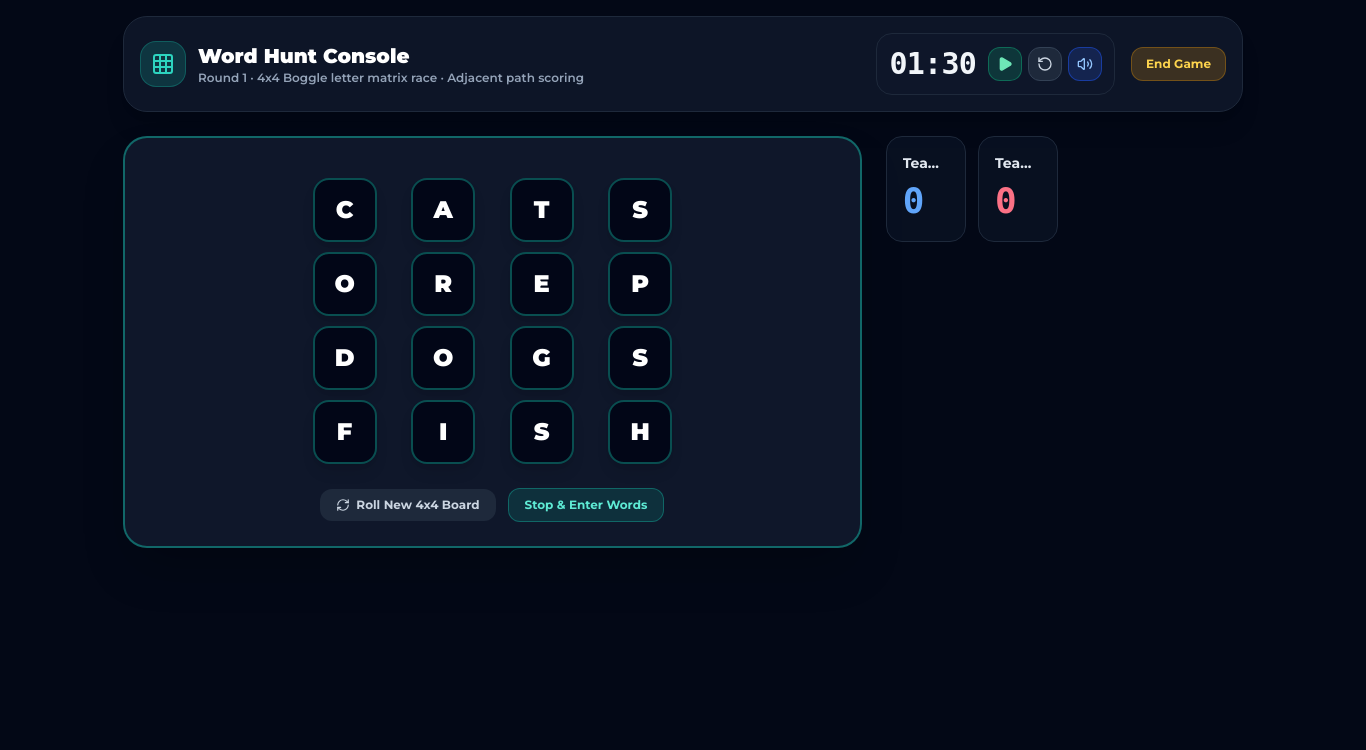
Test: Audit Regression Suite: Content Generator & All 15 Hub/Battle Games › 10 Team Battle Games Gameplay & Sync Fixes › WordHuntHostView deduplicates per-team words and locks round scoring after applied
The width and height of the screenshot is (1366, 750).
Click the button "Stop & Enter Words" at [586, 505], box [508,488,664,522]
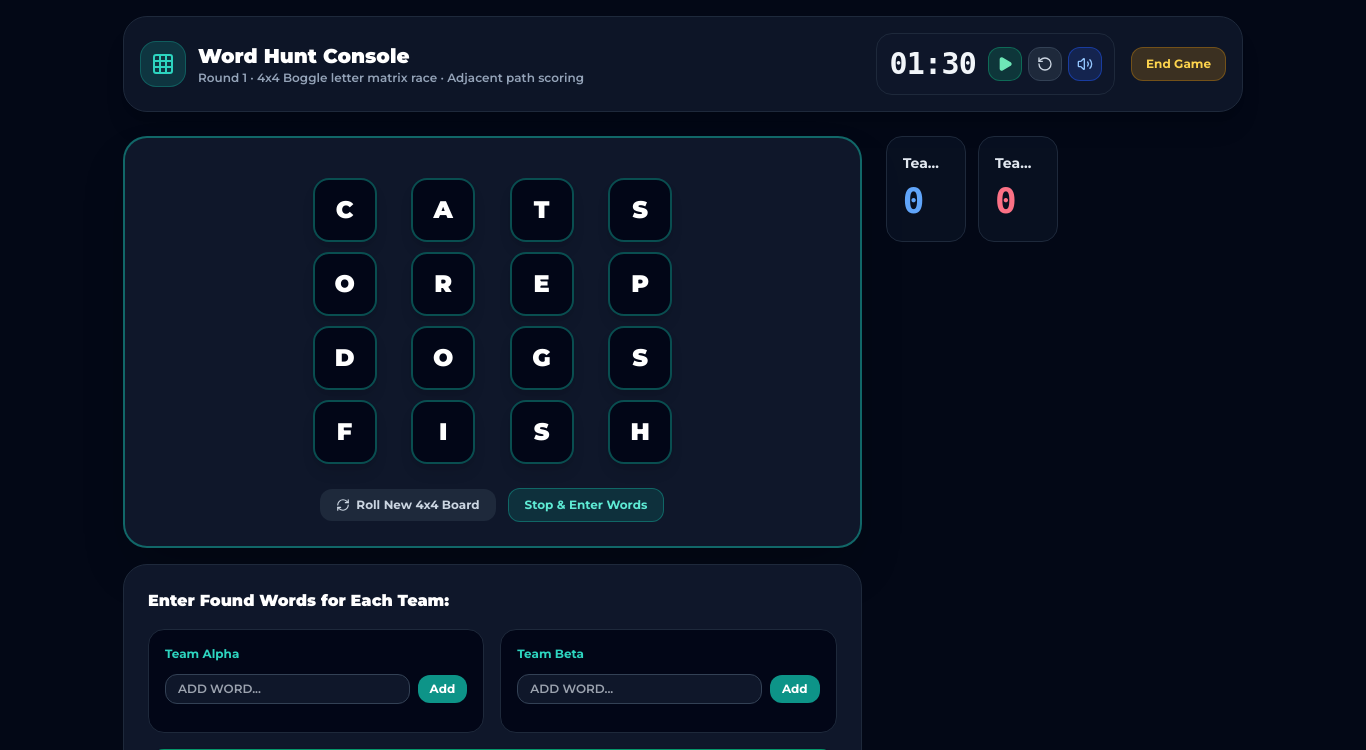
Type "CAT" into the 1st field with placeholder "Add word..." at [287, 689], box [165,674,410,704]
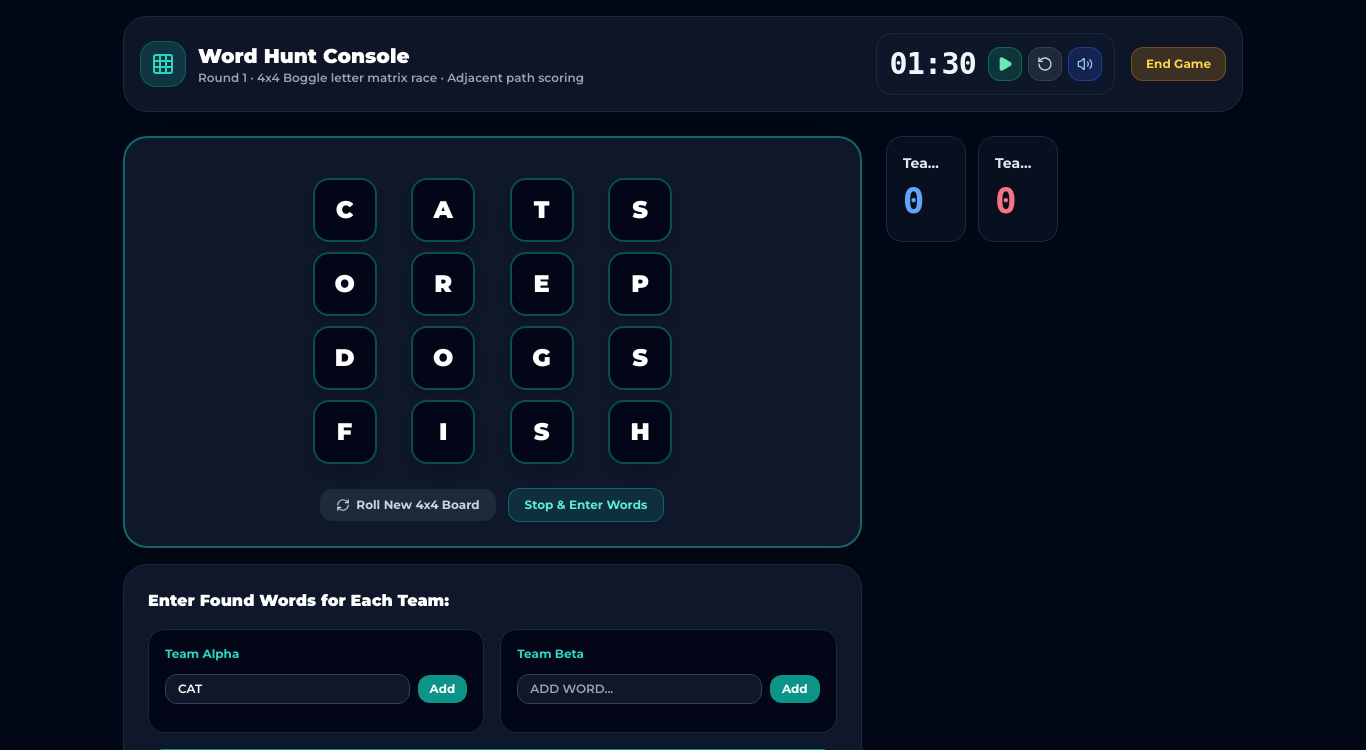
Click the 1st button "Add" at [442, 689], box [418,675,467,703]
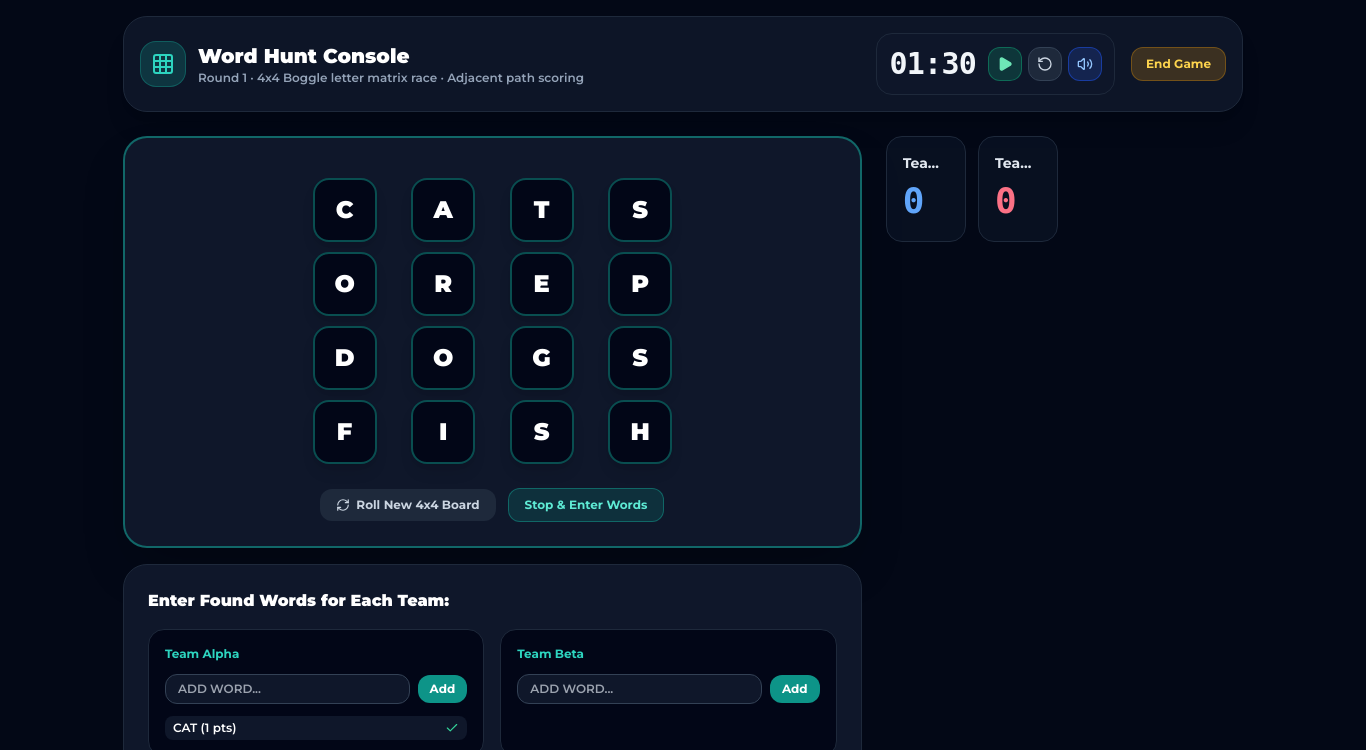
Type "CAT" into the 1st field with placeholder "Add word..." at [287, 689], box [165,674,410,704]
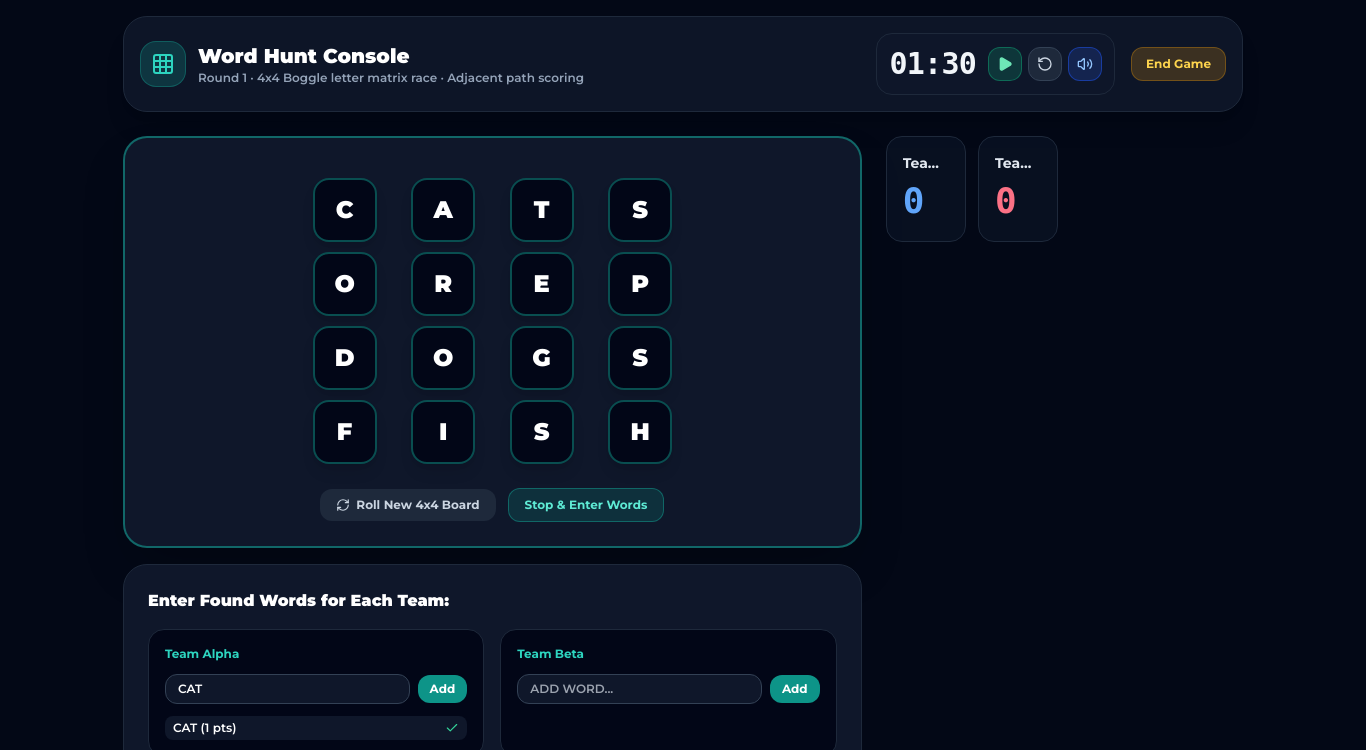
Click the 1st button "Add" at [442, 689], box [418,675,467,703]
(page scrolled)
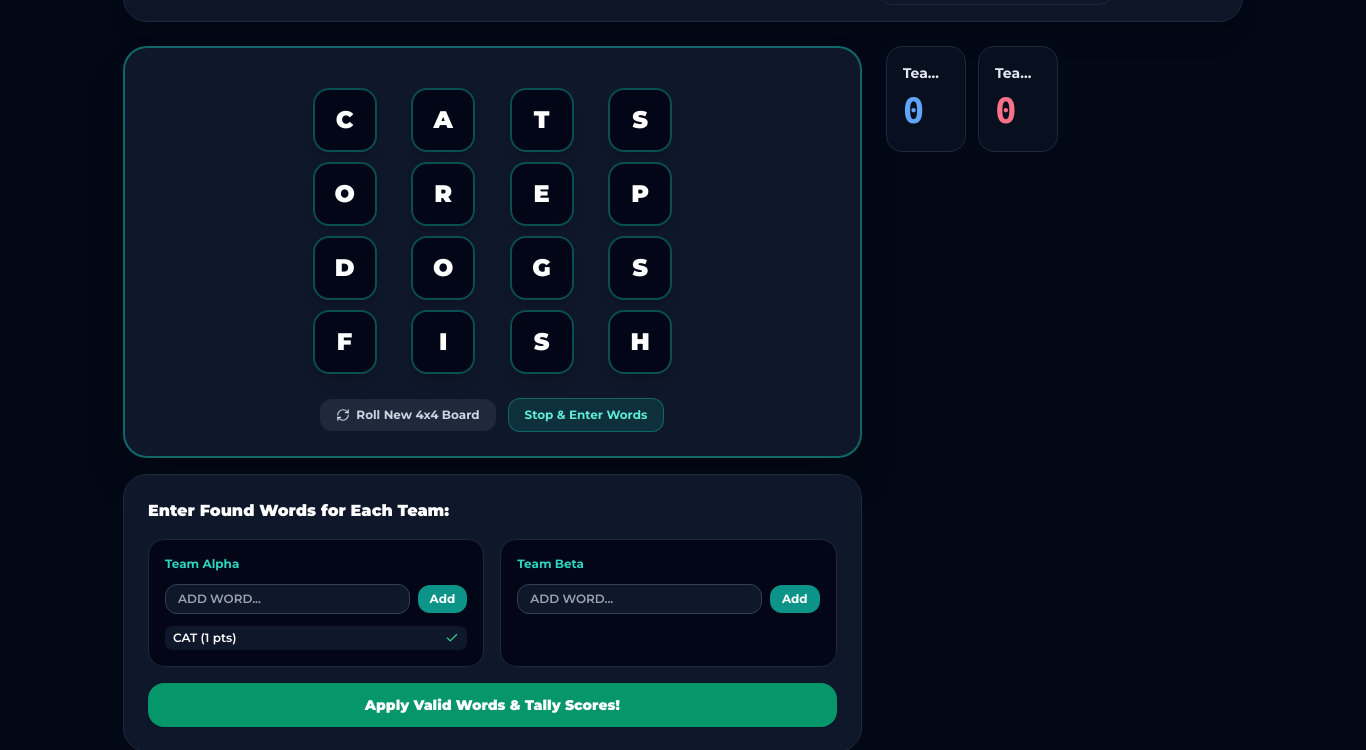
Now the text "CAT (1 pts)" is shown once, box [173,630,236,646]
Click the button "Apply Valid Words & Tally Scores!" at [492, 705], box [148,683,837,727]
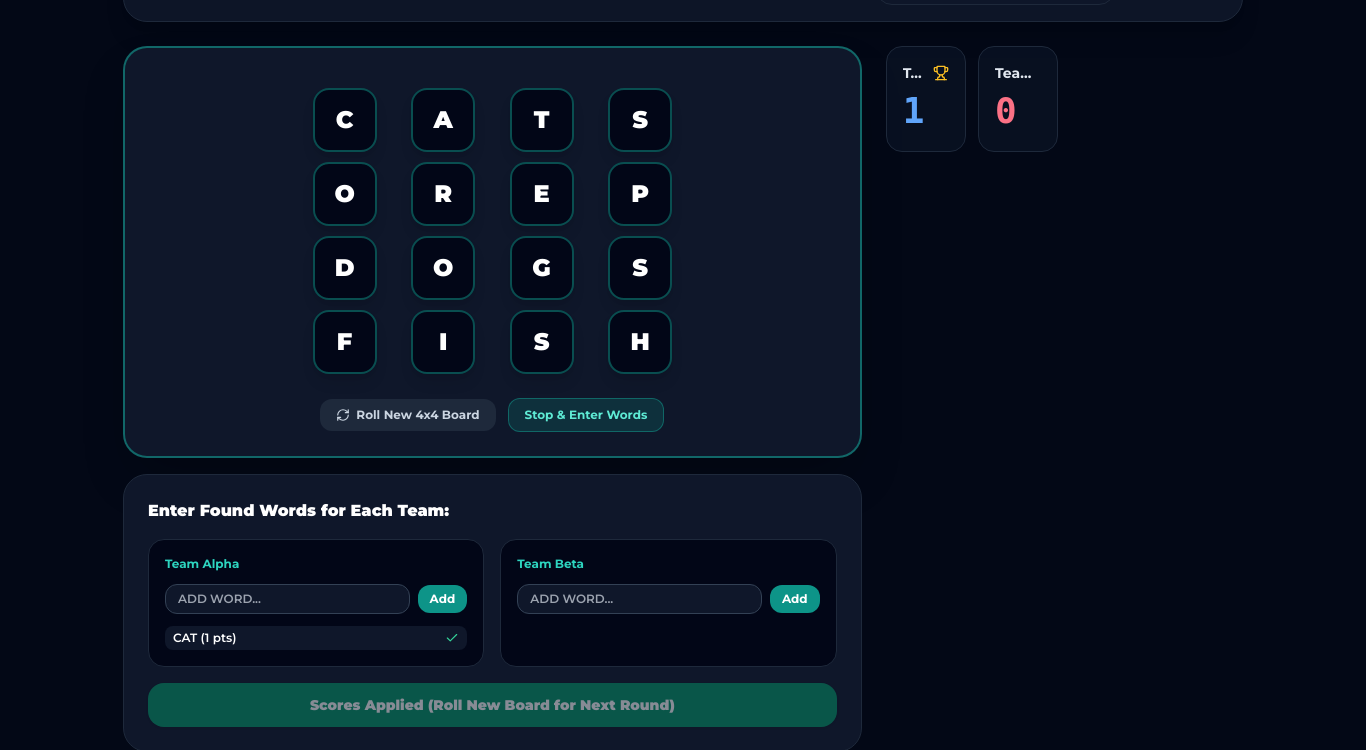
Now the button named "Apply Valid Words & Tally Scores!" is disabled, box [148,683,837,727]
